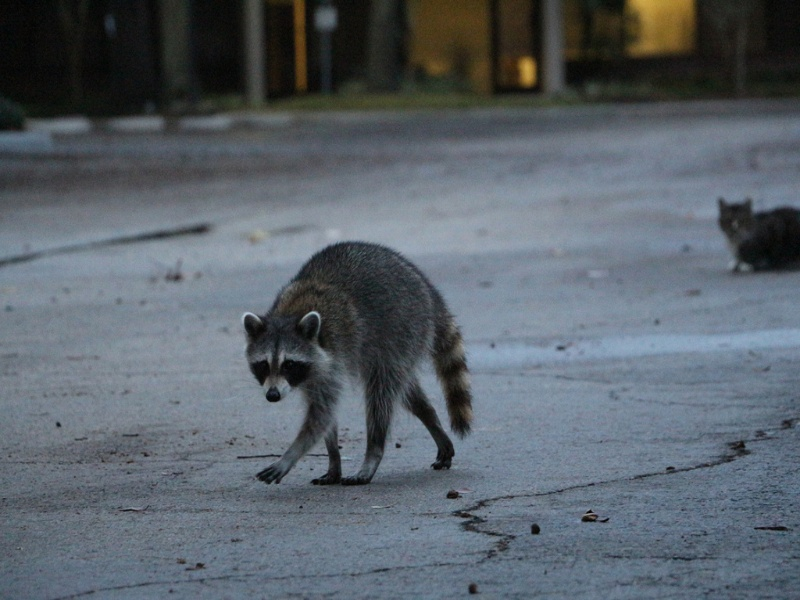cat: (718, 195, 795, 280)
raccoon: (239, 235, 474, 492)
